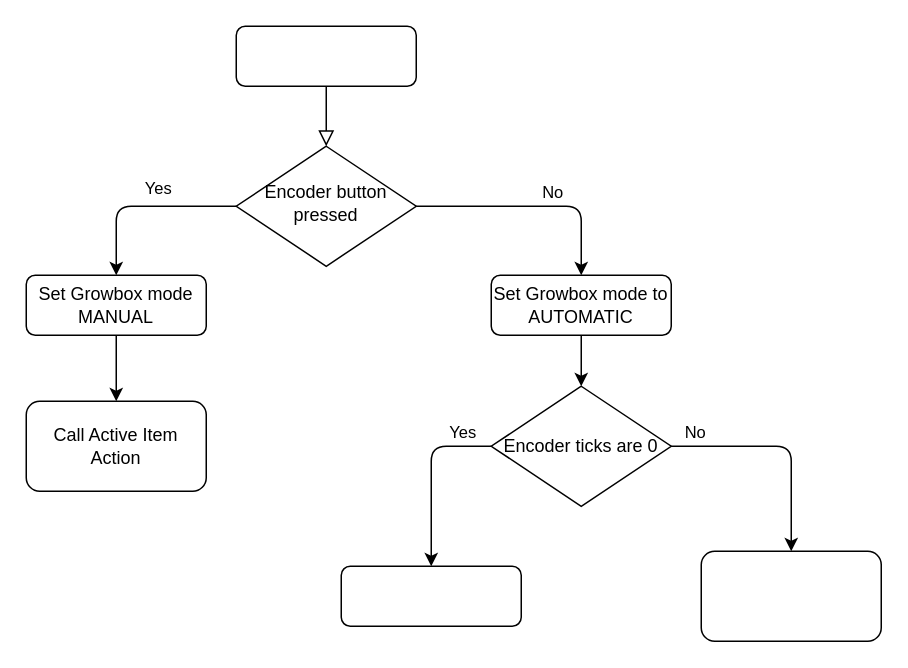
The diagram is 908 pixels wide and 668 high, and some of its shapes have lost their labels. The shapes that lost their labels are listed below. From the top down, each one's box as (x1, y1, x2, y2) in pixels, then its label:
(235, 25, 416, 86): Get Encoder ticks (every 1 ms)
(340, 565, 521, 626): Call Display Update
(700, 550, 881, 641): Navigate through User Menu
